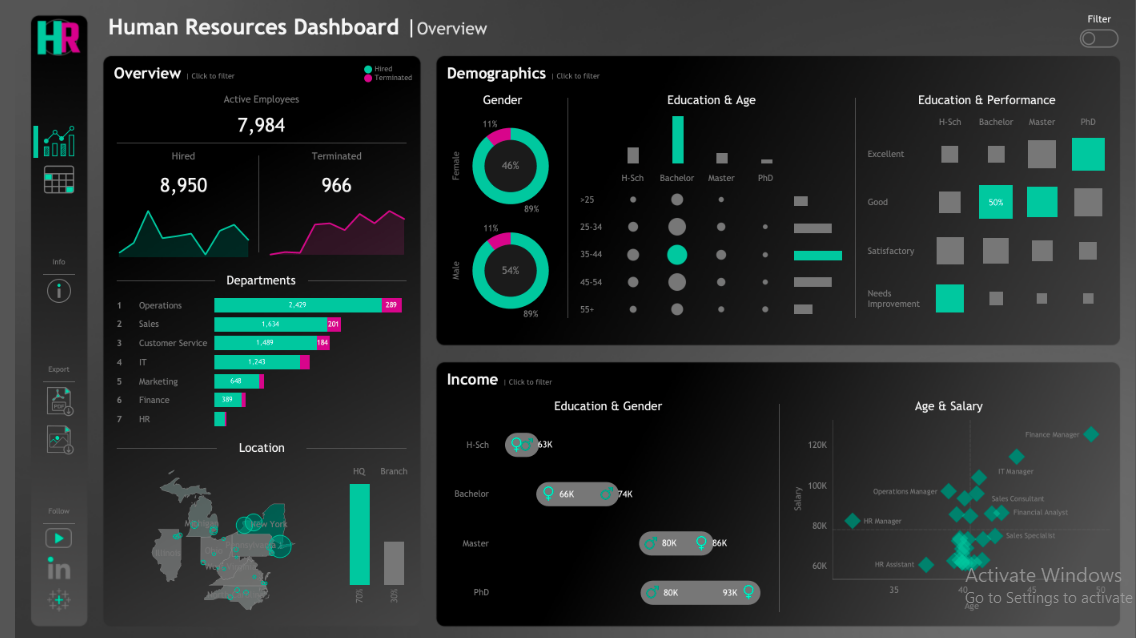

The dashboard page shown, as its layout file describes it:
{"tool":"tableau","page":{"name":"HR DashBoard","canvas":[1400,800],"ordinal":1},"visuals":[{"type":"text","box":[115,5,1260,65]},{"type":"filter","title":"Gender vs Education","param":"[federated.04bhpmu169roca1efrk2z1cc8xg3].[none:Gender:nk]","box":[812,9,125,55]},{"type":"filter","title":"Gender vs Education","param":"[federated.04bhpmu169roca1efrk2z1cc8xg3].[none:Calculation_560979694212829189:nk","box":[937,9,125,55]},{"type":"filter","title":"Gender vs Education","param":"[federated.04bhpmu169roca1efrk2z1cc8xg3].[none:Calculation_1108167049254199296:n","box":[1062,9,125,55]},{"type":"filter","title":"Gender vs Education","param":"[federated.04bhpmu169roca1efrk2z1cc8xg3].[yr:Hiredate:ok]","box":[1187,9,125,55]},{"type":"dashboard-object","box":[1319,13,50,41]},{"type":"image","param":"Image/Logo.png","box":[30,30,60,49]},{"type":"text","box":[365,71,71,30]},{"type":"text","box":[122,77,351,31]},{"type":"text","box":[507,77,861,31]},{"type":"blank","box":[30,79,60,34.7]},{"type":"text","box":[122,108,351,24]},{"type":"text","box":[507,113,168,26]},{"type":"blank","box":[680,113,1,292.5]},{"type":"text","box":[686,113,431,26]},{"type":"blank","box":[1122,113,1,292.5]},{"type":"text","box":[1128,113,240,26]},{"type":"dashboard-object","box":[30,113.7,60,60]},{"type":"blank","box":[28,126,6,40]},{"type":"worksheet","title":"BAN Active","mark":"Text","box":[122,132,351,32]},{"type":"worksheet","title":"Gender","mark":"Pie","rows":["Gender"],"cols":["Calculation_560979694227181576","Calculation_560979694227181576"],"box":[507,139,168,266.5]},{"type":"worksheet","title":"Education Level","mark":"Bar","rows":["Calculation_560979694200725504"],"cols":["Education Level"],"box":[686,139,431,61]},{"type":"worksheet","title":"Education vs Performance","mark":"Square","rows":["Performance Rating"],"cols":["Education Level"],"box":[1128,139,240,266.5]},{"type":"blank","box":[122,164,351,21]},{"type":"dashboard-object","box":[30,173.7,60,60]},{"type":"text","box":[122,185,137,22]},{"type":"blank","box":[259,185,21,159]},{"type":"text","box":[280,185,192.9,22]},{"type":"worksheet","title":"Age vs Education","mark":"Pie","rows":["Calculation_560979694237245451"],"cols":["Education Level"],"box":[686,200,376,205.5]},{"type":"worksheet","title":"Age Groups","mark":"Bar","rows":["Calculation_560979694237245451"],"cols":["Calculation_560979694200725504"],"box":[1062,200,55,205.5]},{"type":"worksheet","title":"BAN Hired","mark":"Text","box":[122,207,137,30]},{"type":"worksheet","title":"BAN Terminated","mark":"Text","box":[280,207,192.9,30]},{"type":"blank","box":[30,233.7,60,34.7]},{"type":"worksheet","title":"Hired Trend","mark":"Line","rows":["Calculation_560979694200725504","Calculation_560979694200725504"],"cols":["Hiredate"],"box":[122,237,137,107]},{"type":"worksheet","title":"Terminated Trend","mark":"Line","rows":["Calculation_560979694201942017","Calculation_560979694201942017"],"cols":["Termdate"],"box":[280,237,192.9,107]},{"type":"text","box":[30,268.4,60,21]},{"type":"blank","box":[30,289.4,60,10]},{"type":"dashboard-object","box":[30,299.4,60,60]},{"type":"blank","box":[132,354,80,32]},{"type":"text","box":[212,354,170,32]},{"type":"blank","box":[382,354,81,32]},{"type":"blank","box":[30,359.4,60,34.7]},{"type":"text","box":[30,394.1,60,22]},{"type":"worksheet","title":"Department","mark":"Bar","rows":["Calculation_560979694210572292","Department"],"cols":["Calculation_560979694200725504"],"box":[122,396,351,148]},{"type":"blank","box":[30,416.1,60,10]},{"type":"dashboard-object","box":[30,426.1,60,60]},{"type":"text","box":[507,439.5,861,31]},{"type":"text","box":[507,475.5,461,26]},{"type":"blank","box":[968,475.5,1,292.5]},{"type":"text","box":[969,475.5,399,26]},{"type":"dashboard-object","box":[30,486.1,60,60]},{"type":"worksheet","title":"Gender vs Education","mark":"Square","rows":["Education Level"],"cols":["Salary","Salary"],"box":[507,501.5,461,266.5]},{"type":"worksheet","title":"Age vs Salary","mark":"Shape","rows":["Salary"],"cols":["Calculation_560979694236667914"],"box":[969,501.5,399,266.5]},{"type":"blank","box":[30,546.1,60,34.7]},{"type":"blank","box":[132,554,114.3,32]},{"type":"text","box":[246.3,554,102.3,32]},{"type":"blank","box":[348.6,554,114.3,32]},{"type":"text","box":[30,580.8,60,21]},{"type":"worksheet","title":"Map States","mark":"Multipolygon","box":[122,596,210,172]},{"type":"worksheet","title":"Location","mark":"Bar","rows":["Calculation_560979694200725504"],"cols":["Calculation_560979694212829189"],"box":[332,596,141,172]},{"type":"blank","box":[30,601.8,60,10]},{"type":"image","param":"Image/contact-channel.png","box":[30,611.8,60,52.7]},{"type":"image","param":"Image/contact-linkedin.png","box":[30,664.6,60,52.7]},{"type":"image","param":"Image/contact-public.png","box":[30,717.3,60,52.7]}]}

Visuals, with their boxes in screenshot pixels (x1, y1, x2, y2), scaled from the page's 1400x800 canvas onto the 1136x638 screenshot:
text: Rect(93, 4, 1116, 56)
"Gender vs Education" filter: Rect(659, 7, 760, 51)
"Gender vs Education" filter: Rect(760, 7, 862, 51)
"Gender vs Education" filter: Rect(862, 7, 963, 51)
"Gender vs Education" filter: Rect(963, 7, 1065, 51)
dashboard-object: Rect(1070, 10, 1111, 43)
image: Rect(24, 24, 73, 63)
text: Rect(296, 57, 354, 81)
text: Rect(99, 61, 384, 86)
text: Rect(411, 61, 1110, 86)
blank: Rect(24, 63, 73, 91)
text: Rect(99, 86, 384, 105)
text: Rect(411, 90, 548, 111)
blank: Rect(552, 90, 553, 323)
text: Rect(557, 90, 906, 111)
blank: Rect(910, 90, 911, 323)
text: Rect(915, 90, 1110, 111)
dashboard-object: Rect(24, 91, 73, 139)
blank: Rect(23, 100, 28, 132)
"BAN Active" worksheet (Text marks): Rect(99, 105, 384, 131)
"Gender" worksheet (Pie marks): Rect(411, 111, 548, 323)
"Education Level" worksheet (Bar marks): Rect(557, 111, 906, 160)
"Education vs Performance" worksheet (Square marks): Rect(915, 111, 1110, 323)
blank: Rect(99, 131, 384, 148)
dashboard-object: Rect(24, 139, 73, 186)
text: Rect(99, 148, 210, 165)
blank: Rect(210, 148, 227, 274)
text: Rect(227, 148, 384, 165)
"Age vs Education" worksheet (Pie marks): Rect(557, 160, 862, 323)
"Age Groups" worksheet (Bar marks): Rect(862, 160, 906, 323)
"BAN Hired" worksheet (Text marks): Rect(99, 165, 210, 189)
"BAN Terminated" worksheet (Text marks): Rect(227, 165, 384, 189)
blank: Rect(24, 186, 73, 214)
"Hired Trend" worksheet (Line marks): Rect(99, 189, 210, 274)
"Terminated Trend" worksheet (Line marks): Rect(227, 189, 384, 274)
text: Rect(24, 214, 73, 231)
blank: Rect(24, 231, 73, 239)
dashboard-object: Rect(24, 239, 73, 287)
blank: Rect(107, 282, 172, 308)
text: Rect(172, 282, 310, 308)
blank: Rect(310, 282, 376, 308)
blank: Rect(24, 287, 73, 314)
text: Rect(24, 314, 73, 332)
"Department" worksheet (Bar marks): Rect(99, 316, 384, 434)
blank: Rect(24, 332, 73, 340)
dashboard-object: Rect(24, 340, 73, 388)
text: Rect(411, 351, 1110, 375)
text: Rect(411, 379, 785, 400)
blank: Rect(785, 379, 786, 612)
text: Rect(786, 379, 1110, 400)
dashboard-object: Rect(24, 388, 73, 436)
"Gender vs Education" worksheet (Square marks): Rect(411, 400, 785, 612)
"Age vs Salary" worksheet (Shape marks): Rect(786, 400, 1110, 612)
blank: Rect(24, 436, 73, 463)
blank: Rect(107, 442, 200, 467)
text: Rect(200, 442, 283, 467)
blank: Rect(283, 442, 376, 467)
text: Rect(24, 463, 73, 480)
"Map States" worksheet (Multipolygon marks): Rect(99, 475, 269, 612)
"Location" worksheet (Bar marks): Rect(269, 475, 384, 612)
blank: Rect(24, 480, 73, 488)
image: Rect(24, 488, 73, 530)
image: Rect(24, 530, 73, 572)
image: Rect(24, 572, 73, 614)
